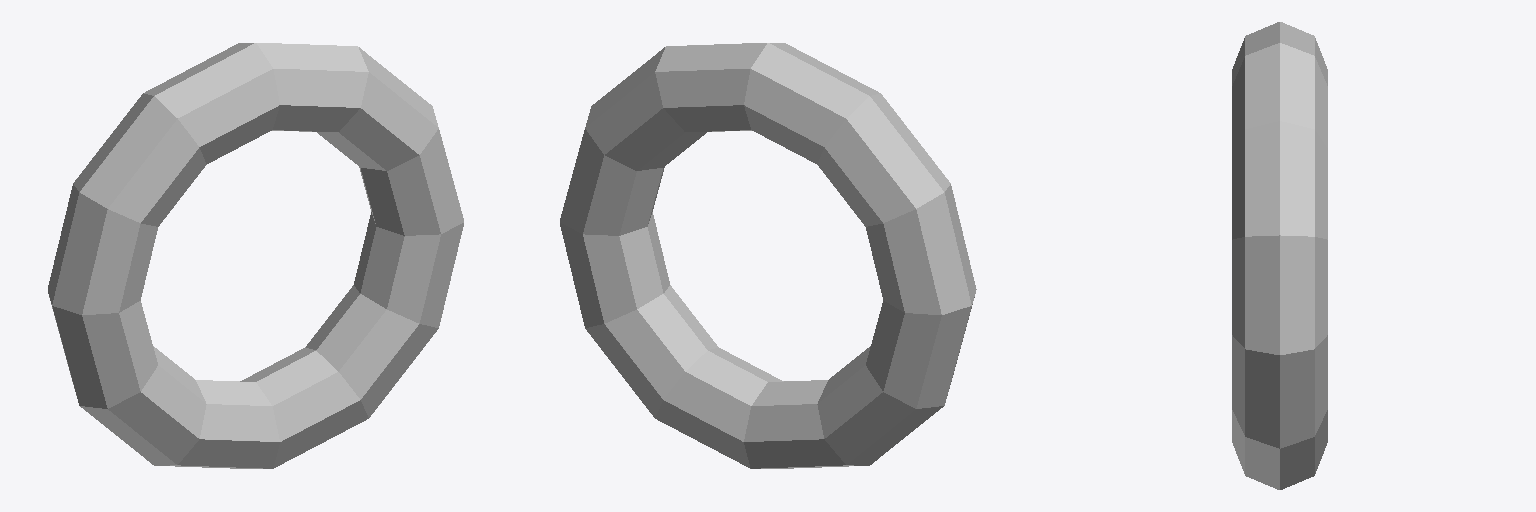
Rendered from bell_decorated_ring.obj.
3 views of the same model, side by side, from view 1: azimuth 30°, elevation 25°; view 2: azimuth 150°, elevation 25°; view 3: azimuth 270°, elevation 25° (orthographic).
Visible parts, largest first — view 1: bell_decorated_ring; view 2: bell_decorated_ring; view 3: bell_decorated_ring.
Part boxes in pixels (bbox=[...]): bell_decorated_ring: bbox=[48, 43, 463, 468]; bell_decorated_ring: bbox=[560, 43, 976, 468]; bell_decorated_ring: bbox=[1232, 22, 1327, 489].
Size of the model in its own units: 0.3275 by 0.3275 by 0.0672.